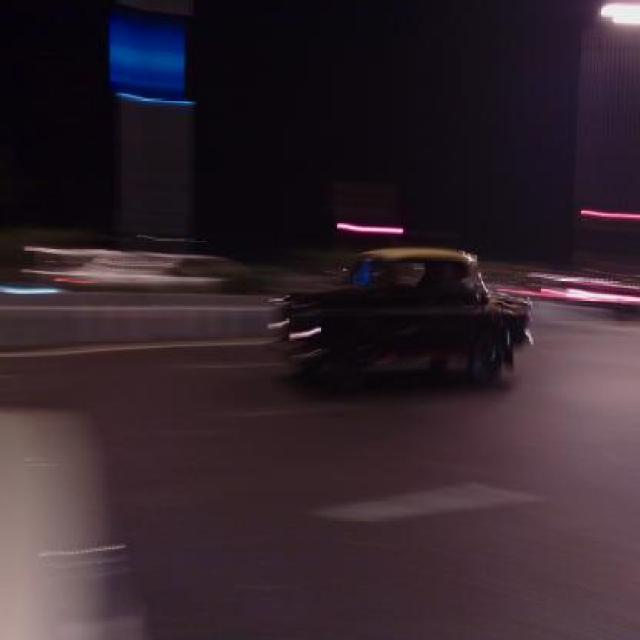Car: (278, 248, 532, 386)
